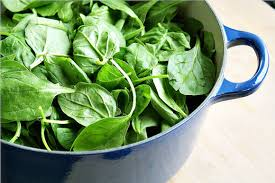spinach: (14, 15, 160, 124)
